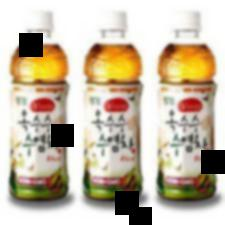oksususuyeomcha: (8, 10, 70, 203), (83, 10, 144, 202), (156, 10, 217, 200)
